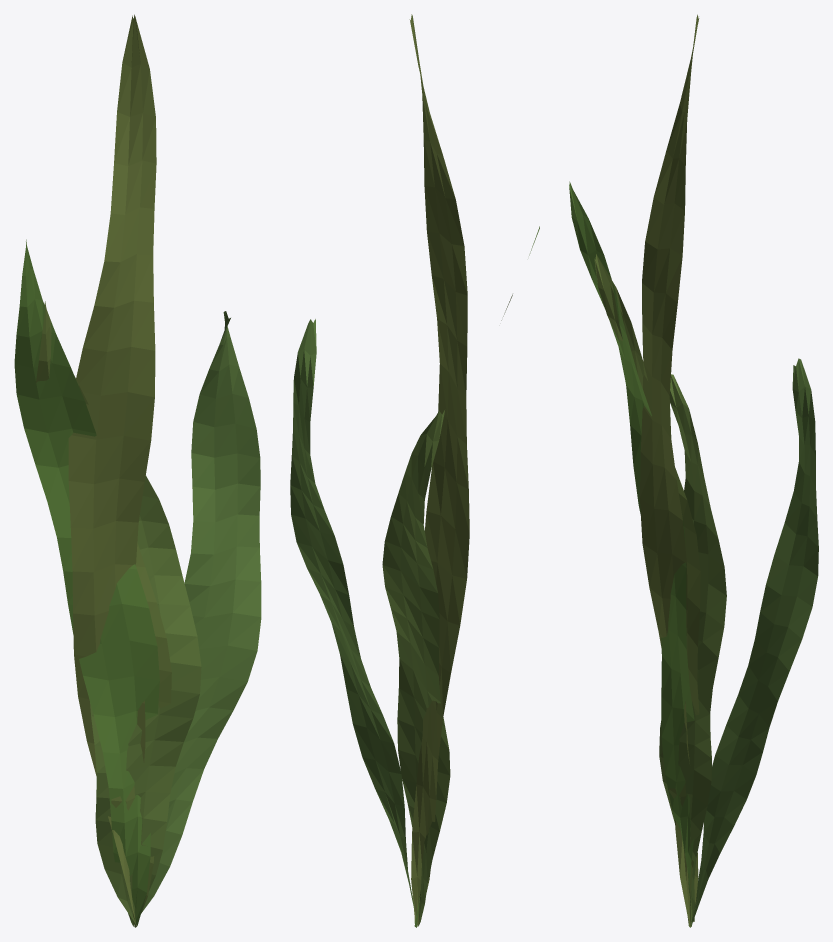
Rendered from ribbon_kelp.glb.
The picture shows the model from 3 angles, left to right: view 1: azimuth 30°, elevation 25°; view 2: azimuth 150°, elevation 25°; view 3: azimuth 330°, elevation 25°; orthographic projection.
Visible parts, largest first — view 1: ribbon_kelp; view 2: ribbon_kelp; view 3: ribbon_kelp.
Boxes of the visible parts, x1,y1,x2,y2 form: ribbon_kelp: (14, 14, 261, 927); ribbon_kelp: (290, 14, 539, 927); ribbon_kelp: (569, 14, 818, 927).
Bounding box in the file's own units: 1.8 × 6.47 × 0.6169.
